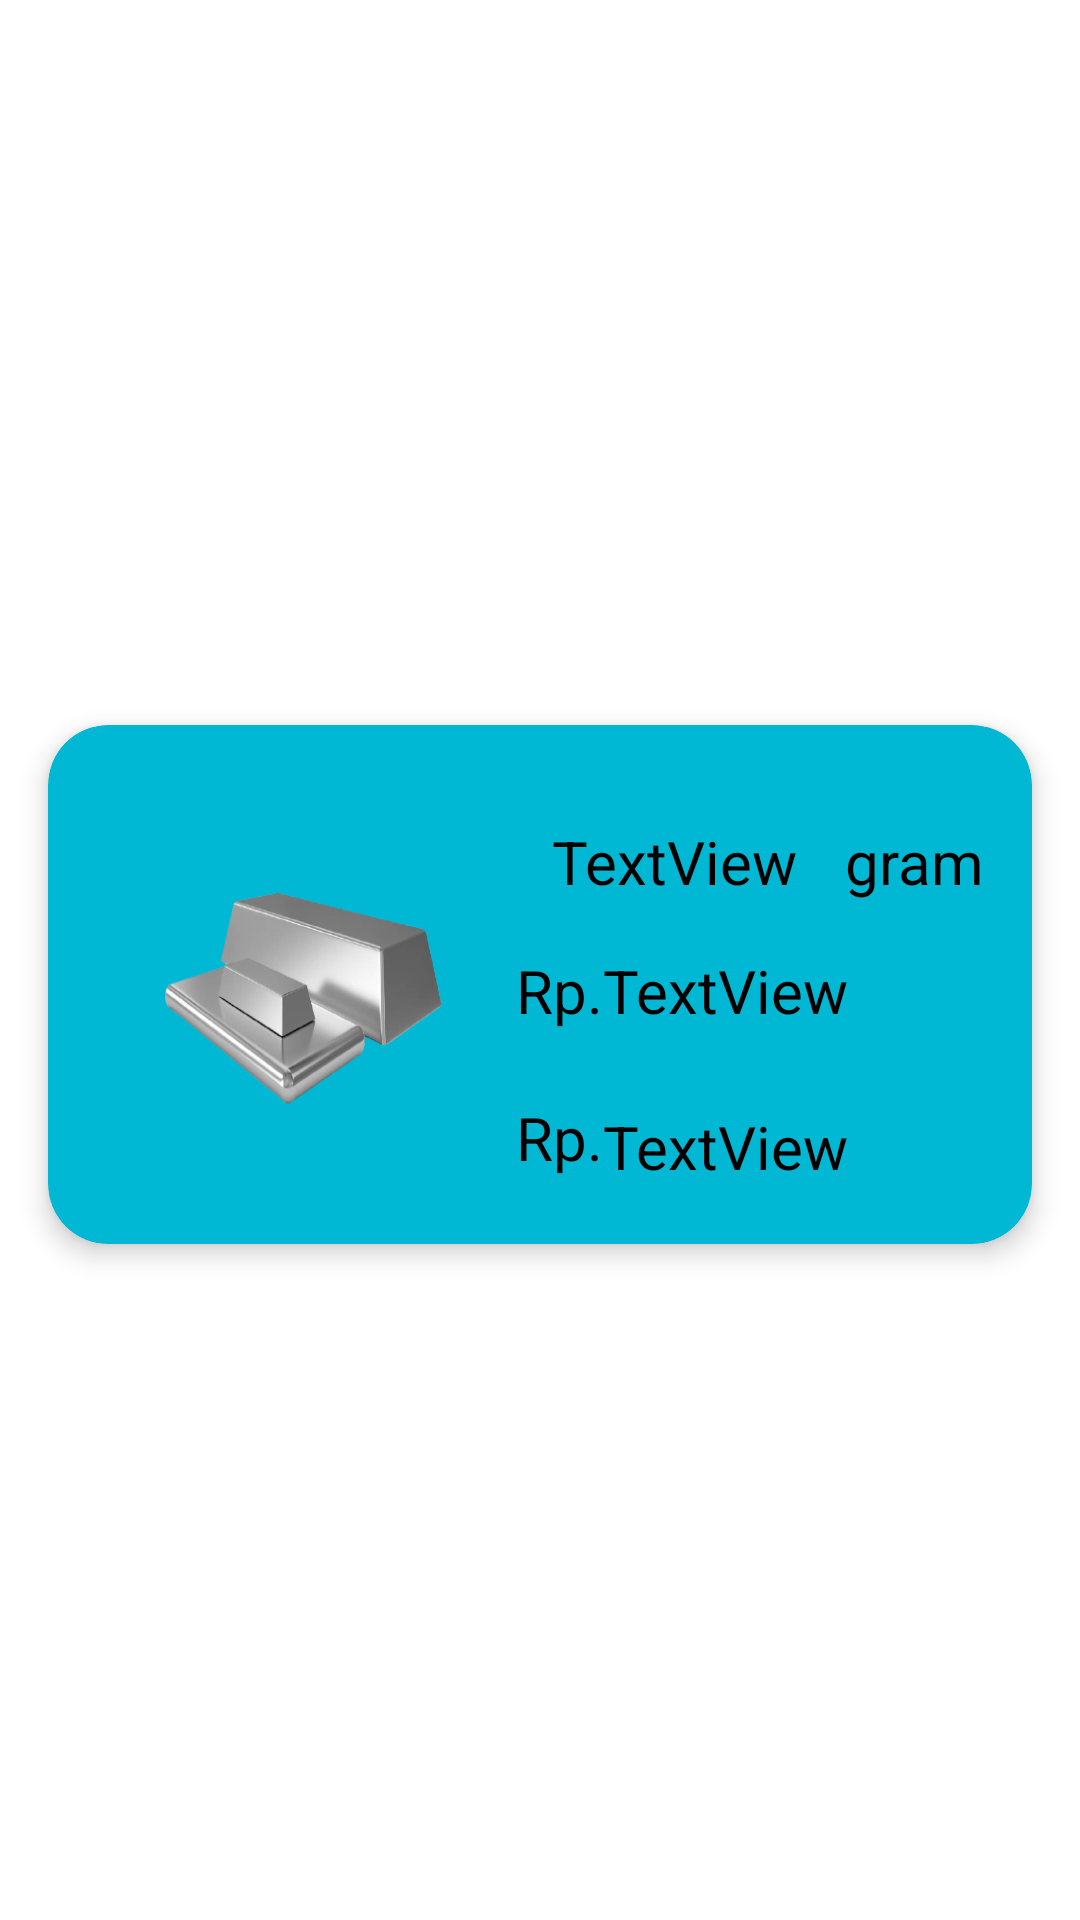

Icons on this 1080 × 1920 Android screen, each with its box as [x1, y1, x2, y2]:
perak: [165, 893, 442, 1104]
